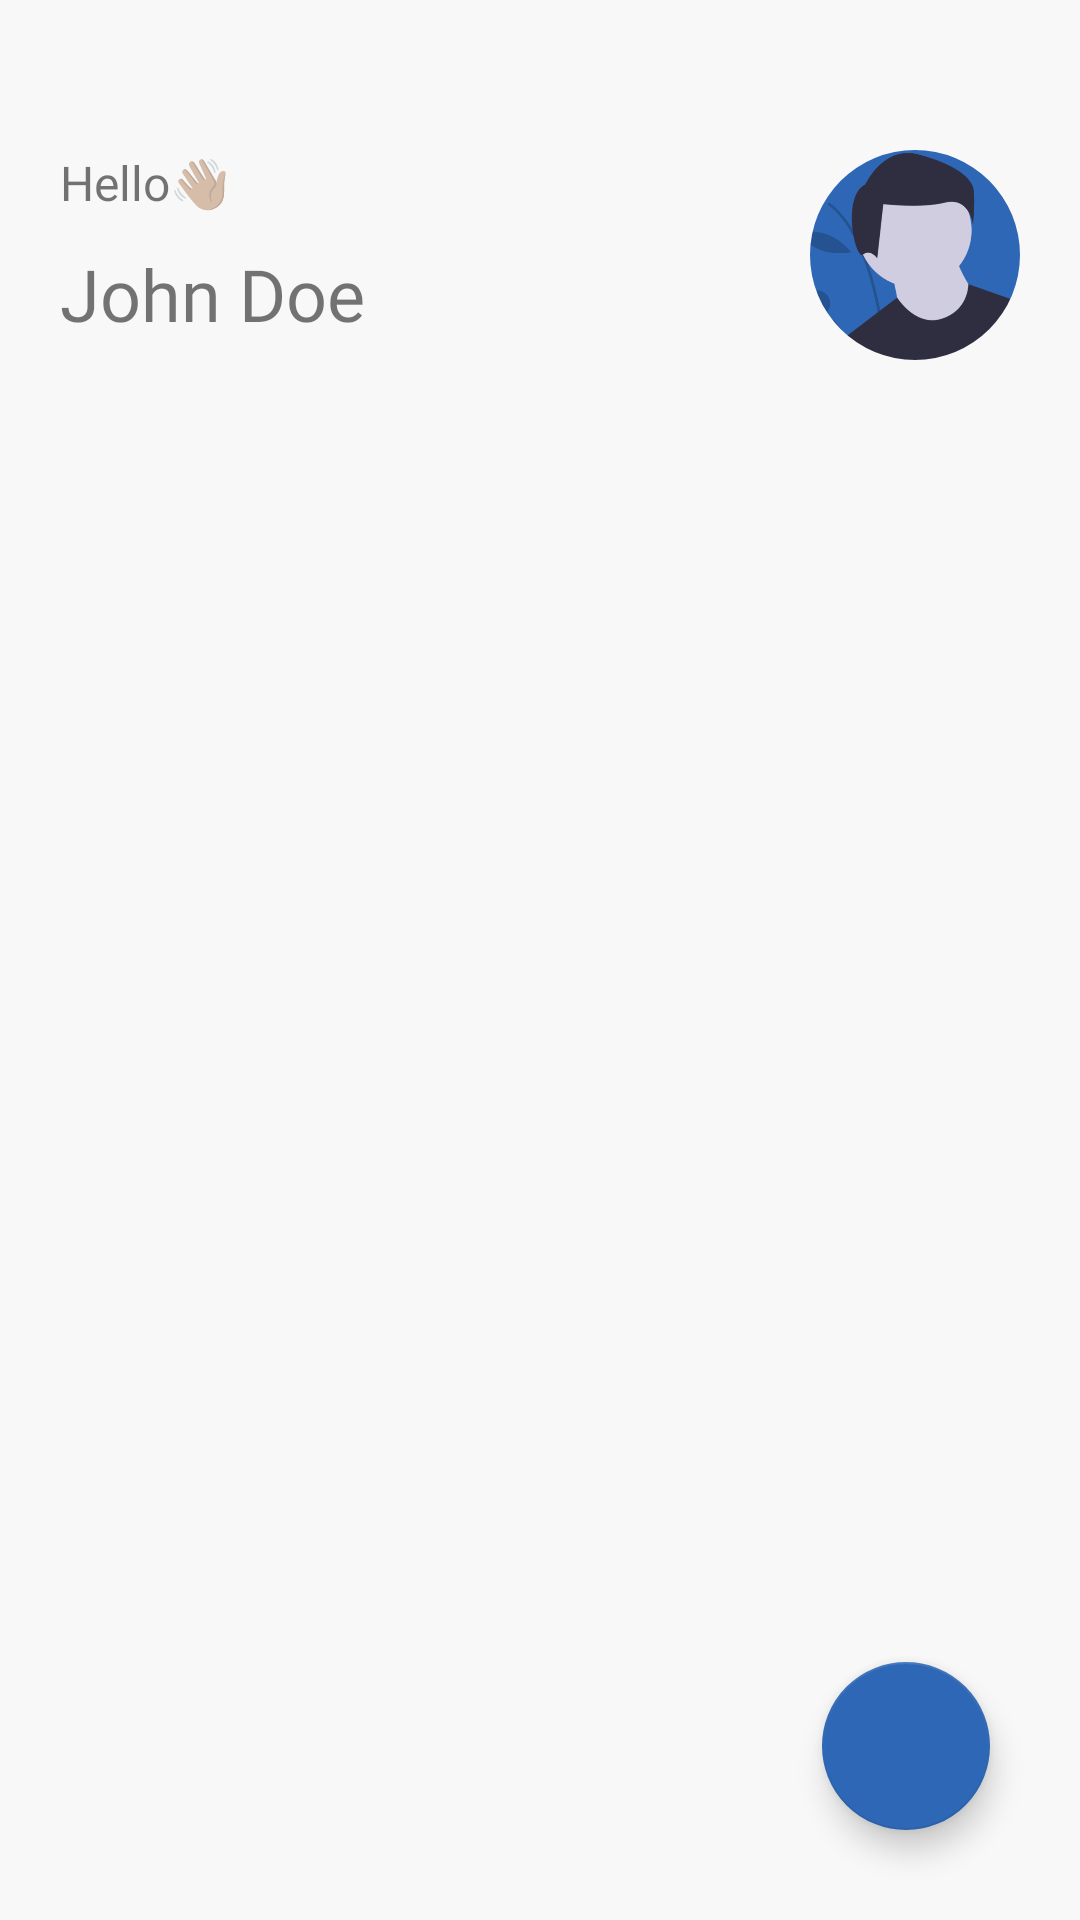

Screen size 1080px×1920px. Icon name, then its center in pixels as (x,y):
person: (915,255)
